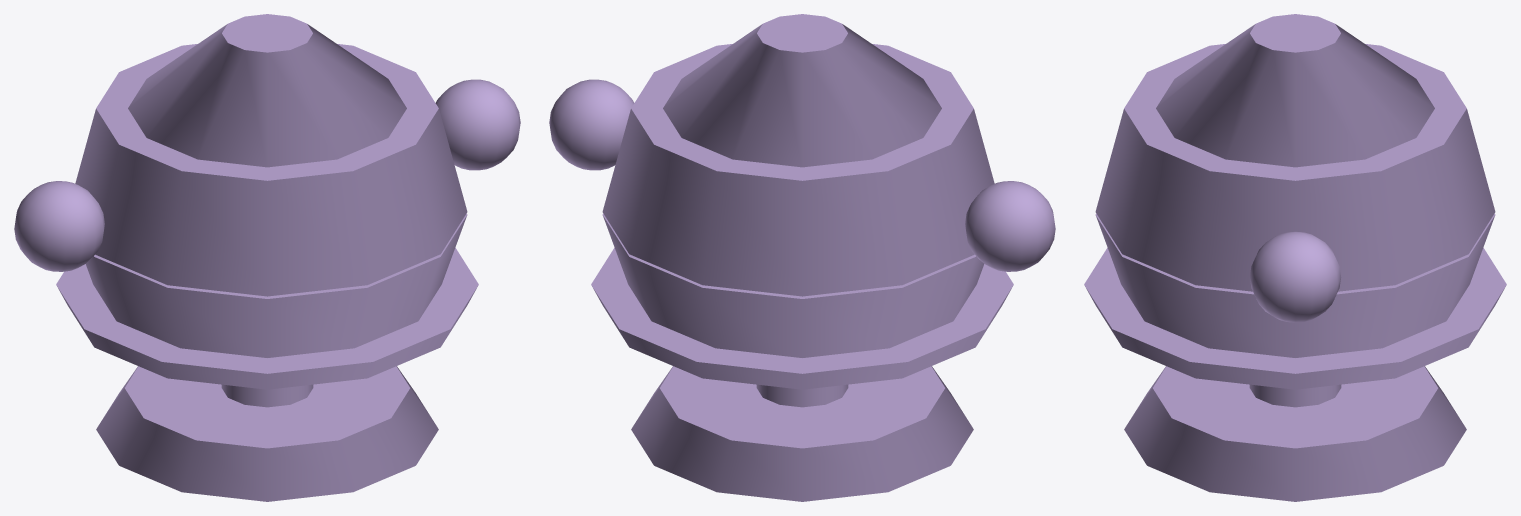
The model's file is trophy.glb.
The picture shows the model from 3 angles, left to right: view 1: azimuth 30°, elevation 25°; view 2: azimuth 150°, elevation 25°; view 3: azimuth 270°, elevation 25°; orthographic projection.
Size of the model in its own units: 1 by 0.765 by 0.74.
